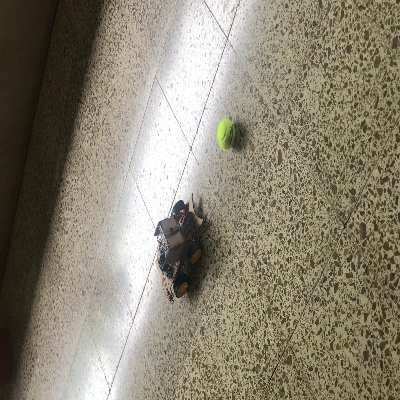Ball: (216, 117, 235, 150)
Robot: (153, 193, 204, 298)
